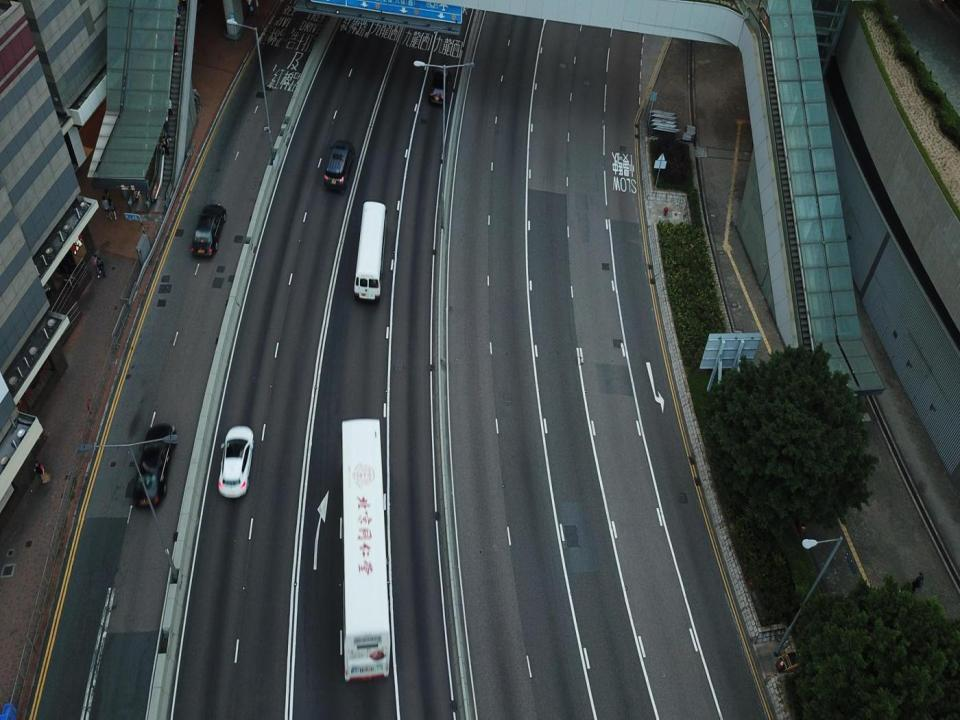bus: (342, 419, 390, 682), (354, 201, 386, 300)
car: (135, 424, 175, 508), (218, 426, 254, 496), (190, 204, 226, 259), (324, 142, 354, 192), (429, 66, 449, 106)
